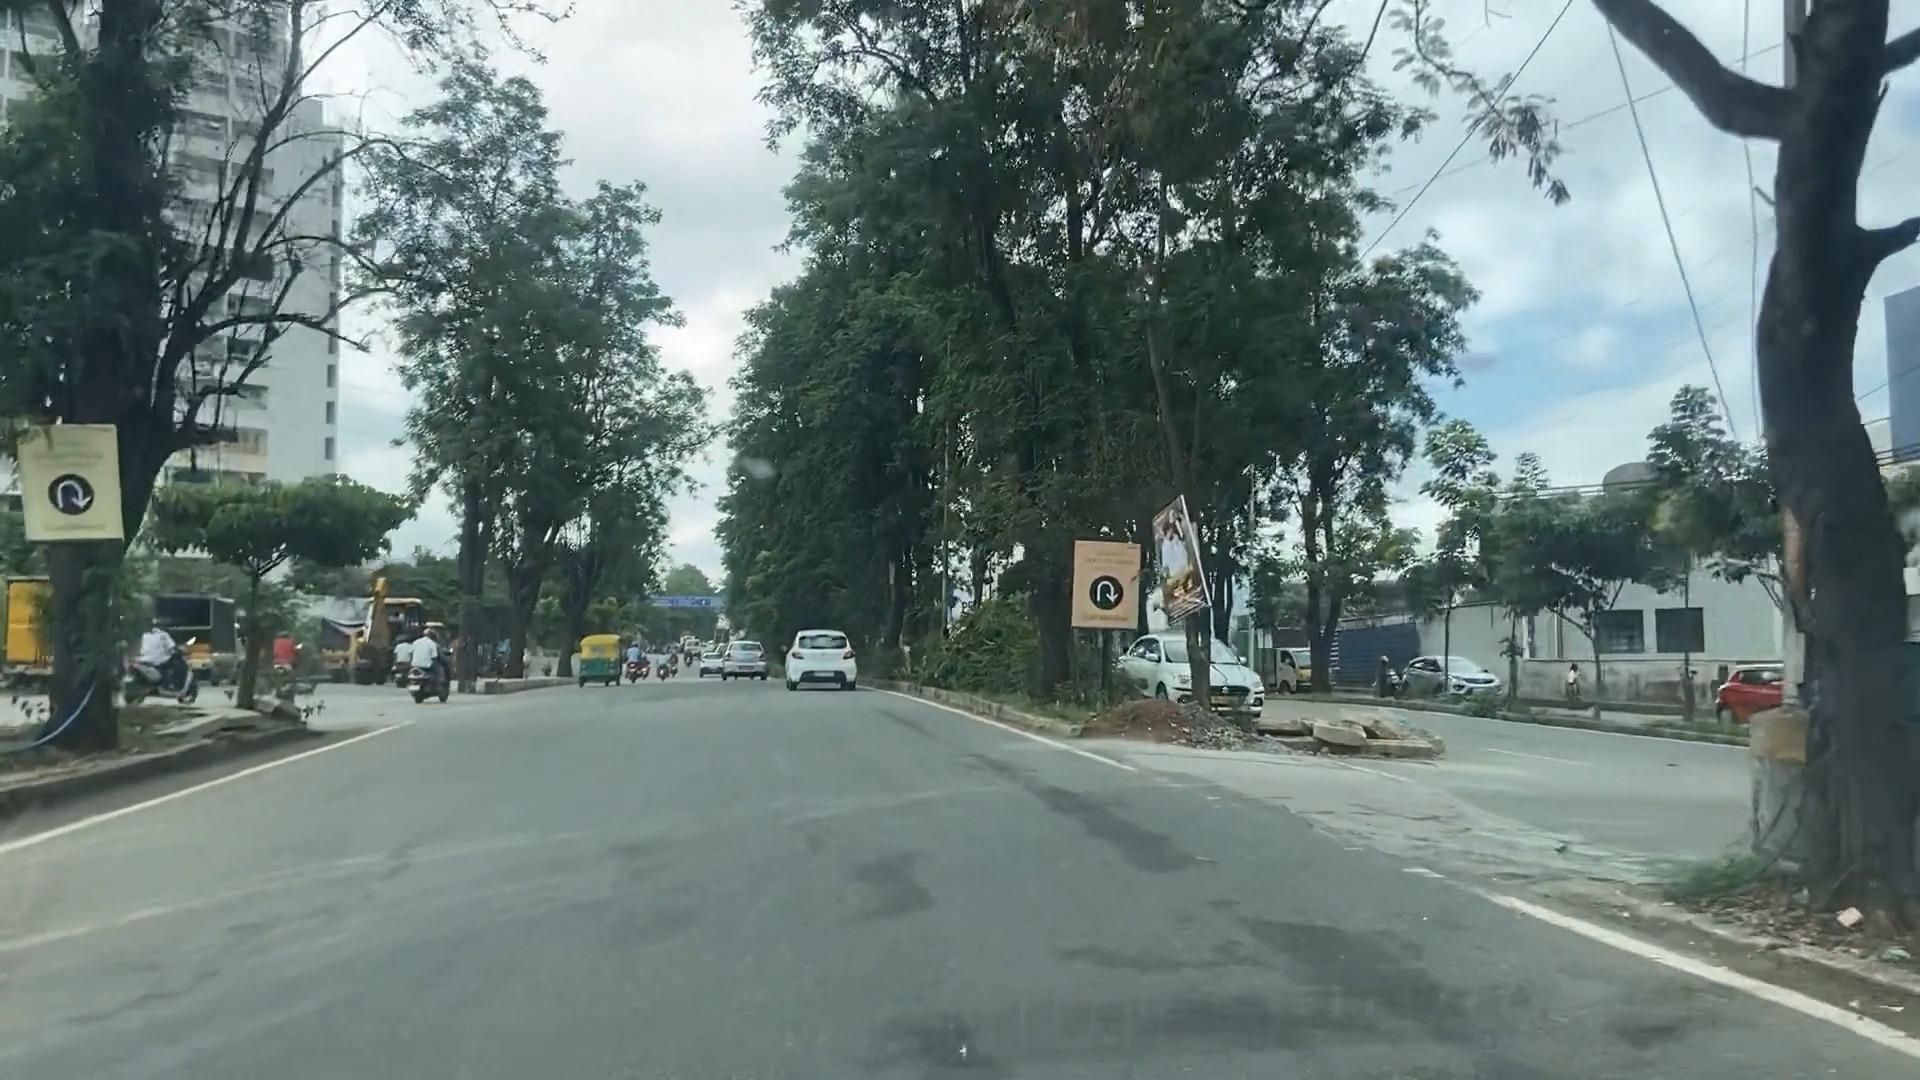LMV: (786, 630, 856, 687), (724, 630, 770, 683), (582, 634, 621, 683)
RoadDamages: (1242, 914, 1410, 1018), (1029, 771, 1183, 862), (876, 1006, 1052, 1080), (1563, 976, 1725, 1047), (1069, 932, 1212, 980), (855, 847, 916, 928)
